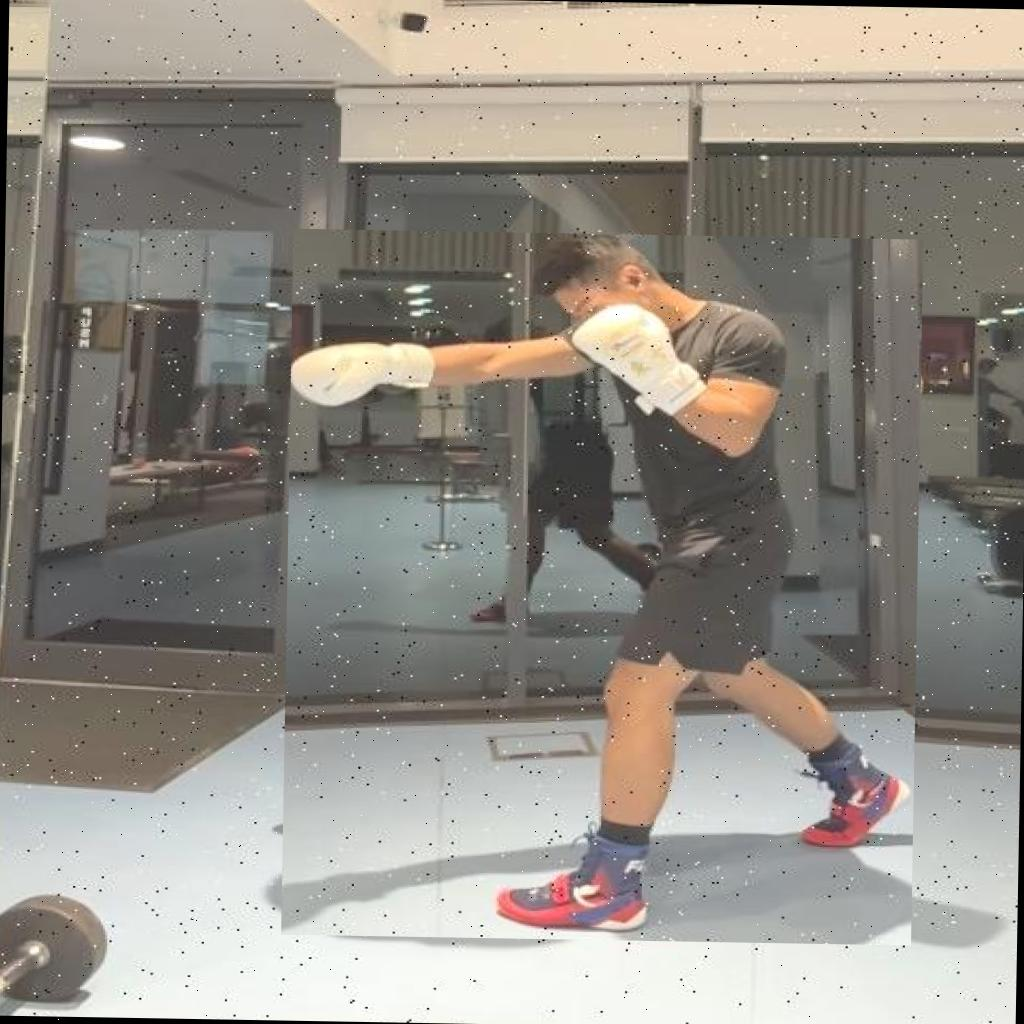cross: (280, 228, 922, 945)
